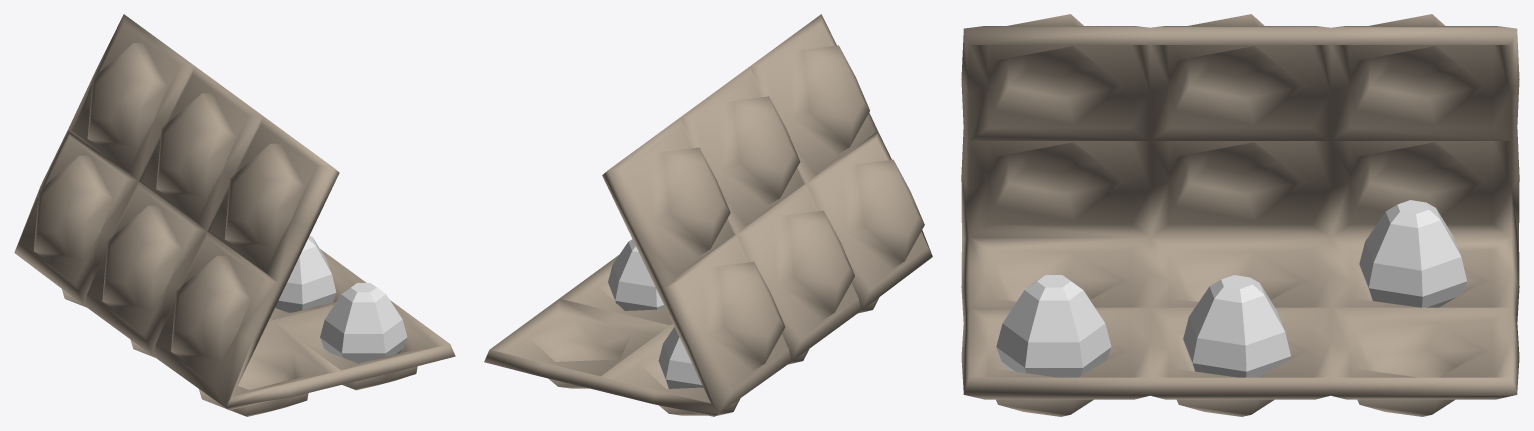
File: EggHolkder.fbx
3 views of the same model, side by side, from view 1: azimuth 30°, elevation 25°; view 2: azimuth 150°, elevation 25°; view 3: azimuth 270°, elevation 25° (orthographic). The views are drawn at different scales.
Visible parts, largest first — view 1: Cylinder.001; view 2: Cylinder.001; view 3: Cylinder.001.
Boxes of the visible parts, box(x1,y1,x2,y2) form: Cylinder.001: box(14, 14, 455, 416); Cylinder.001: box(484, 14, 932, 416); Cylinder.001: box(961, 14, 1519, 416).
Bounding box in the file's own units: 228 × 224 × 343.
